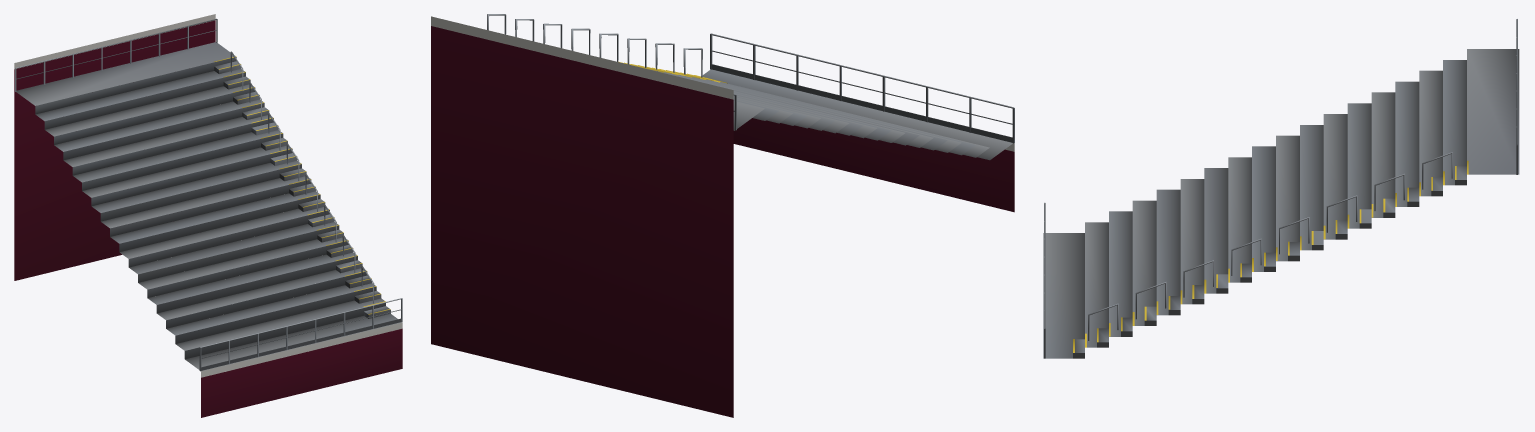
Rendered from stand_T2_kit_4.glb.
3 views of the same model, side by side, from view 1: azimuth 30°, elevation 25°; view 2: azimuth 150°, elevation 25°; view 3: azimuth 270°, elevation 25° (orthographic). The views are drawn at different scales.
Visible parts, largest first — view 1: kit_4; view 2: kit_4; view 3: kit_4.
Boxes of the visible parts, x1,y1,x2,y2 form: kit_4: (14,14,402,417); kit_4: (431,14,1014,417); kit_4: (1043,19,1519,358).
Bounding box in the file's own units: 10 × 10.3 × 16.
